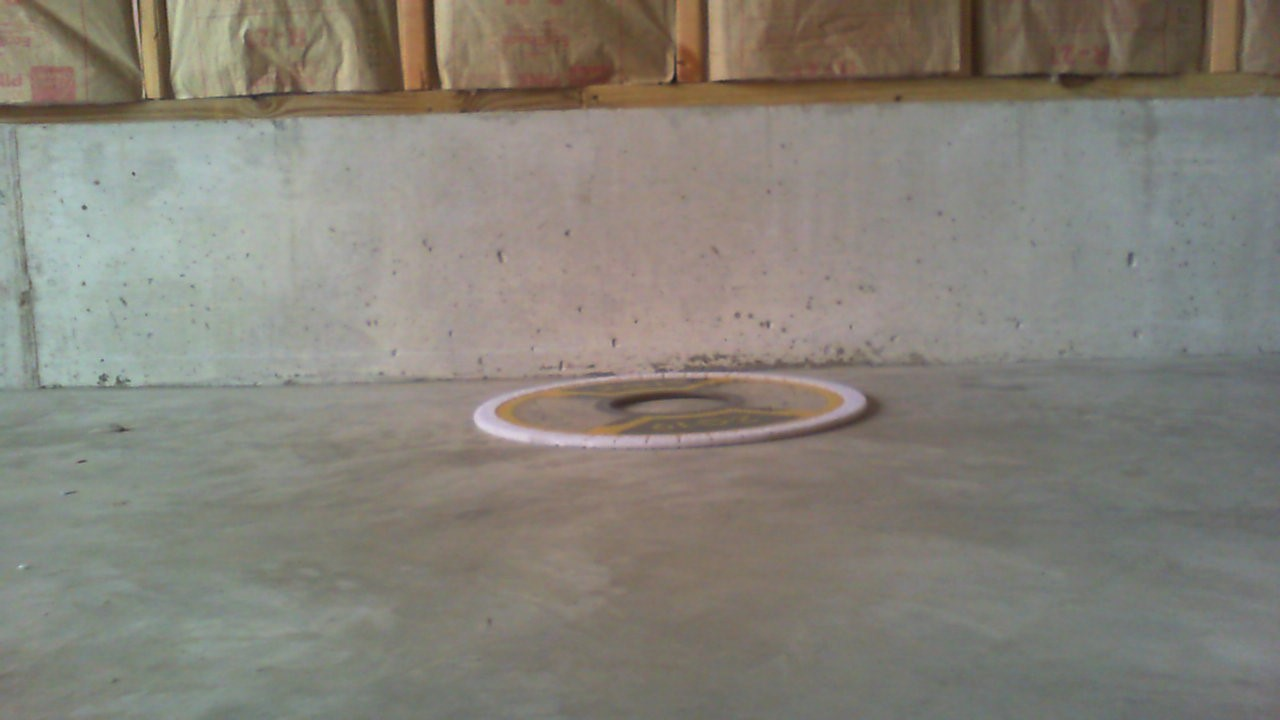Hatch: (472, 370, 869, 446)
